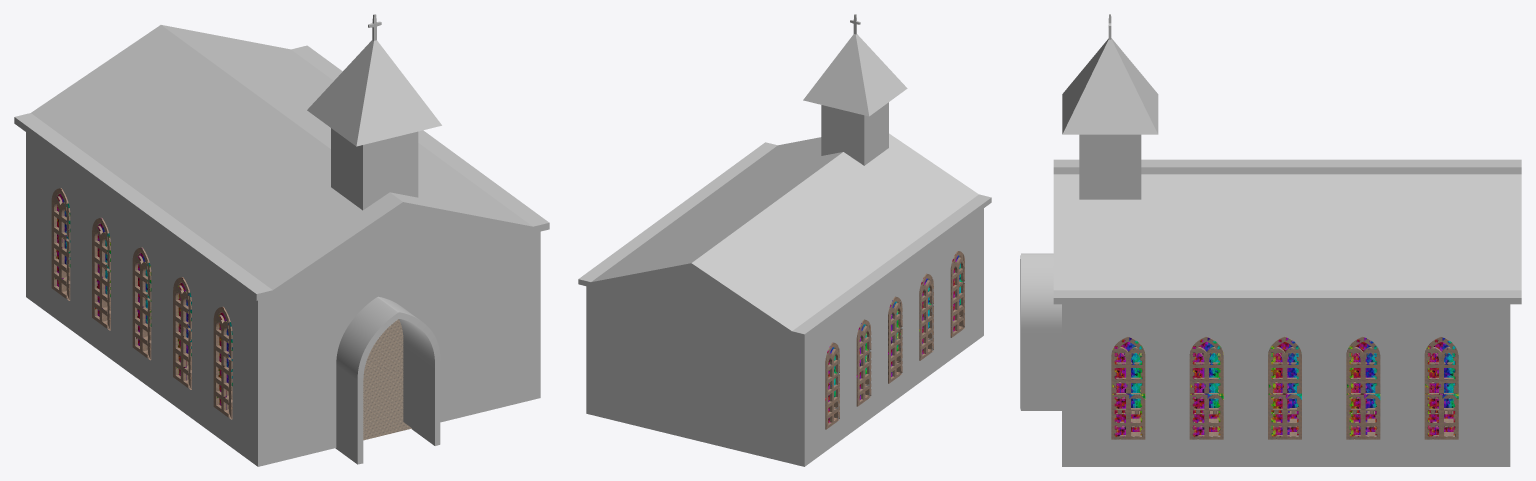
The model's file is Igreja.fbx.
The picture shows the model from 3 angles, left to right: view 1: azimuth 30°, elevation 25°; view 2: azimuth 150°, elevation 25°; view 3: azimuth 270°, elevation 25°; orthographic projection. The views are drawn at different scales.
Parts seen in each view (by area): view 1: Igreja, Teto, Topo, Porta, Chao, Janela, Janela.004, Janela.002, Janela.003, Janela.001; view 2: Igreja, Teto, Topo, Janela.003, Janela.004, Janela.001, Janela, Janela.002; view 3: Teto, Igreja, Topo, Porta, Janela.006, Janela.005, Janela.008, Janela.009, Janela.007, Vidro.002, Vidro.003, Vidro.001 (+2 smaller).
Part boxes in pixels (x1,y1,x2,y2): Igreja: (26,132,540,466); Teto: (14,25,549,300); Topo: (307,14,441,210); Porta: (335,296,440,464); Chao: (363,319,411,440); Janela: (213,306,232,419); Janela.004: (51,188,70,300); Janela.002: (132,247,151,360); Janela.003: (92,217,110,330); Janela.001: (173,277,191,389); Igreja: (586,208,983,466); Teto: (578,133,991,339); Topo: (803,14,907,165); Janela.003: (856,319,871,406); Janela.004: (825,342,839,429); Janela.001: (919,273,933,360); Janela: (950,251,964,337); Janela.002: (888,296,902,383); Teto: (1053,159,1521,304); Igreja: (1062,304,1510,466); Topo: (1062,14,1158,199); Porta: (1020,253,1061,410); Janela.006: (1346,336,1380,439); Janela.005: (1424,336,1458,439); Janela.008: (1189,336,1223,439); Janela.009: (1111,336,1145,439); Janela.007: (1268,336,1301,439); Vidro.002: (1347,337,1380,436); Vidro.003: (1268,337,1301,436); Vidro.001: (1190,337,1223,436).
Size of the model in its own units: 539 by 705 by 827.
